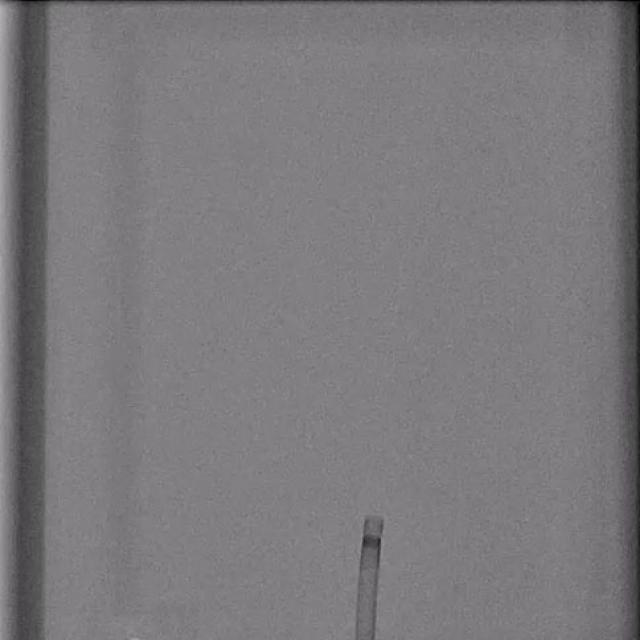entry: (355, 636, 375, 640)
marker: (362, 535, 381, 549)
tip: (365, 515, 384, 524)
